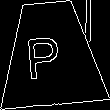P_N: (31, 26, 70, 81)
